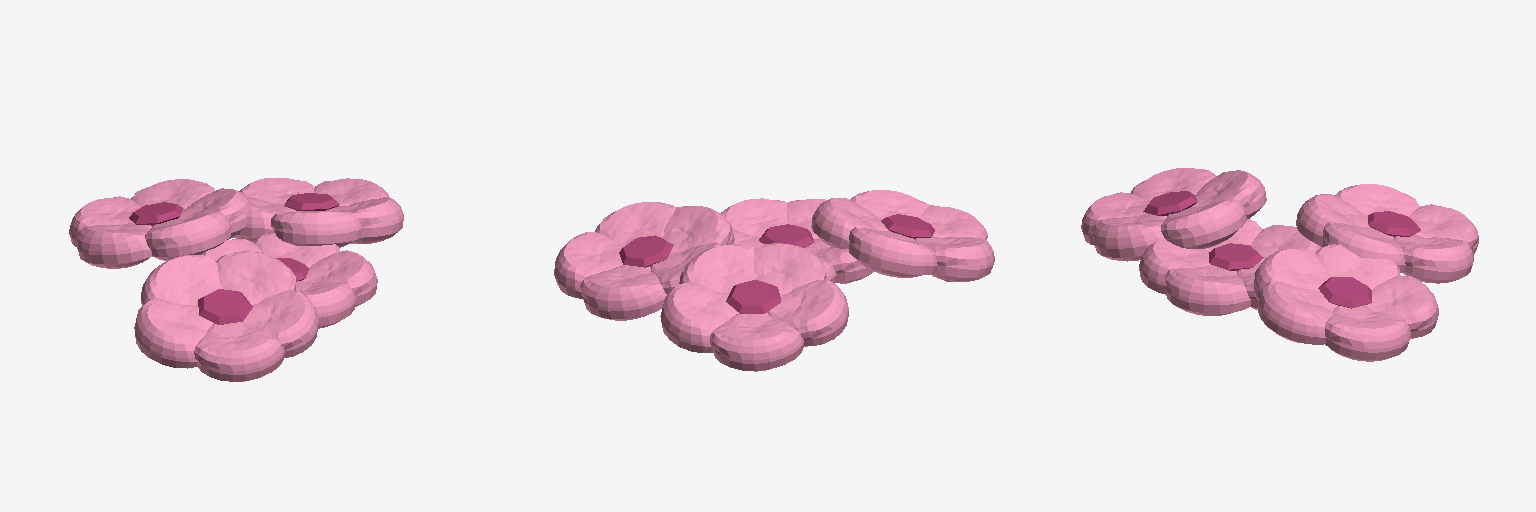
The picture shows the model from 3 angles: view 1: azimuth 30°, elevation 25°; view 2: azimuth 150°, elevation 25°; view 3: azimuth 270°, elevation 25°; orthographic projection.
Parts seen in each view (by area): view 1: Sphere.003, Sphere.001, Sphere.002, Sphere, Cone.003, Cone.001, Cone.002; view 2: Sphere.001, Sphere.002, Sphere.003, Sphere, Cone.001, Cone.002, Cone, Cone.003; view 3: Sphere.002, Sphere.003, Sphere.001, Sphere, Cone.002, Cone, Cone.001, Cone.003.
Part boxes in pixels (x1,y1,x2,y2): Sphere.003: (134, 251, 318, 381); Sphere.001: (69, 179, 250, 268); Sphere.002: (233, 178, 403, 247); Sphere: (201, 233, 377, 328); Cone.003: (198, 289, 252, 324); Cone.001: (129, 202, 183, 225); Cone.002: (284, 193, 339, 210); Sphere.001: (660, 243, 848, 371); Sphere.002: (554, 202, 734, 320); Sphere.003: (811, 190, 994, 281); Sphere: (721, 198, 873, 283); Cone.001: (726, 279, 780, 313); Cone.002: (619, 235, 673, 267); Cone: (759, 224, 814, 247); Cone.003: (881, 214, 934, 238); Sphere.002: (1254, 244, 1438, 361); Sphere.003: (1081, 168, 1266, 261); Sphere.001: (1296, 184, 1478, 283); Sphere: (1139, 219, 1320, 315); Cone.002: (1318, 277, 1371, 308); Cone: (1209, 243, 1263, 270); Cone.001: (1368, 211, 1420, 236); Cone.003: (1143, 191, 1197, 215).
Bounding box in the file's own units: 3.35 × 0.6641 × 3.44.
2 materials, 2 textured.